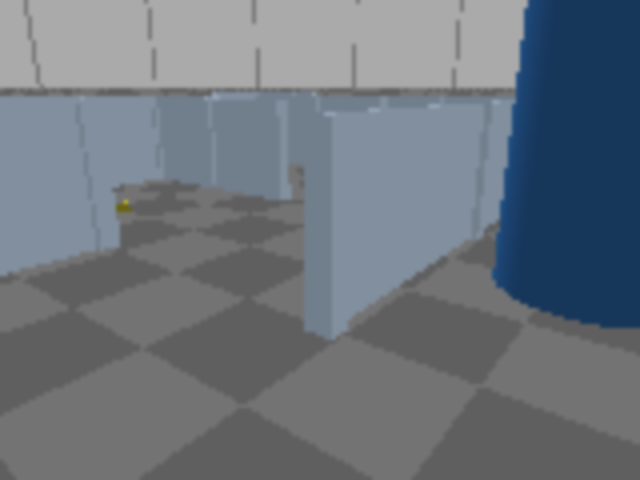person: (497, 0, 638, 319)
